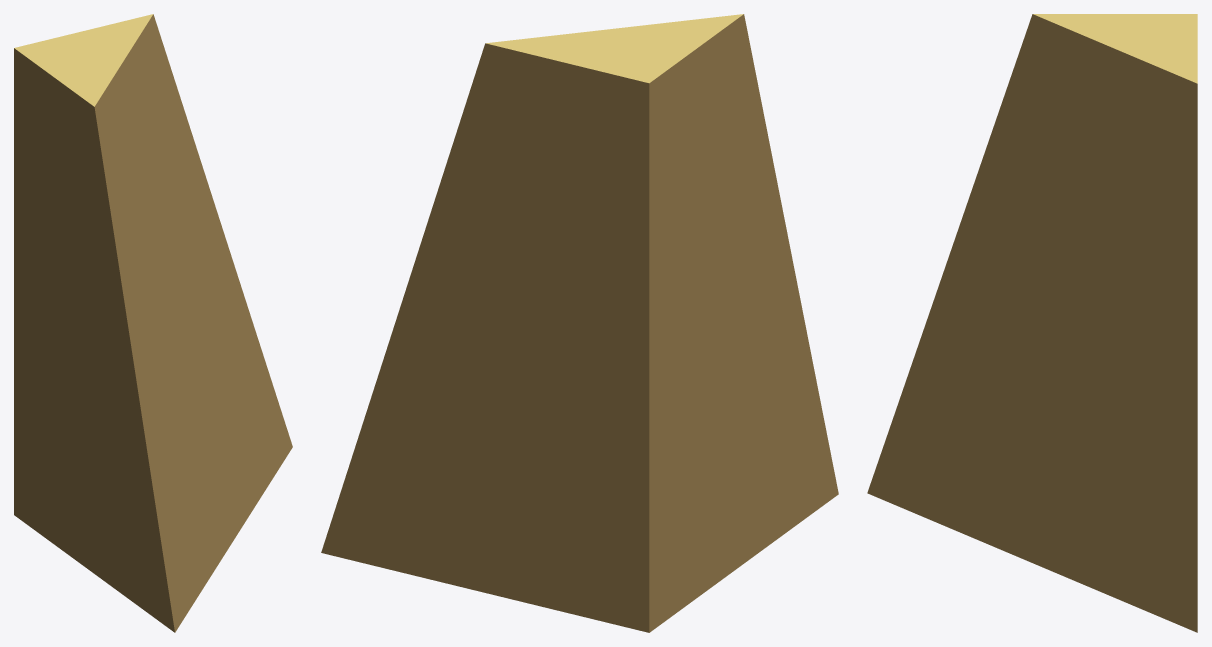
Rendered from Terrain_Modular_Tiles_Sand_Dirt_Cliff_Side_Outer_Corner_01.fbx.
The picture shows the model from 3 angles, left to right: view 1: azimuth 30°, elevation 25°; view 2: azimuth 150°, elevation 25°; view 3: azimuth 270°, elevation 25°; orthographic projection. The views are drawn at different scales.
Parts seen in each view (by area): view 1: Terrain_Modular_Tiles_Sand_Dirt_Cliff_Side_Outer_Corner_01; view 2: Terrain_Modular_Tiles_Sand_Dirt_Cliff_Side_Outer_Corner_01; view 3: Terrain_Modular_Tiles_Sand_Dirt_Cliff_Side_Outer_Corner_01.
Boxes of the visible parts, bbox=[...] form: Terrain_Modular_Tiles_Sand_Dirt_Cliff_Side_Outer_Corner_01: bbox=[14, 14, 292, 632]; Terrain_Modular_Tiles_Sand_Dirt_Cliff_Side_Outer_Corner_01: bbox=[321, 14, 838, 632]; Terrain_Modular_Tiles_Sand_Dirt_Cliff_Side_Outer_Corner_01: bbox=[867, 14, 1197, 632].
Bounding box in the file's own units: 59.06 × 94.49 × 59.06.
